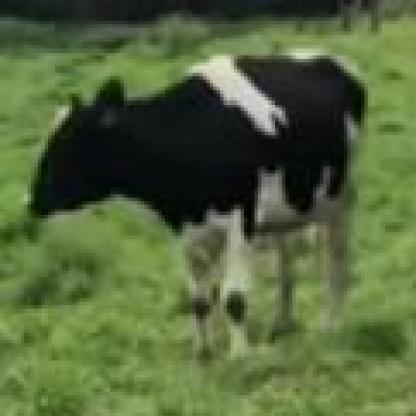cow: (27, 52, 368, 364)
